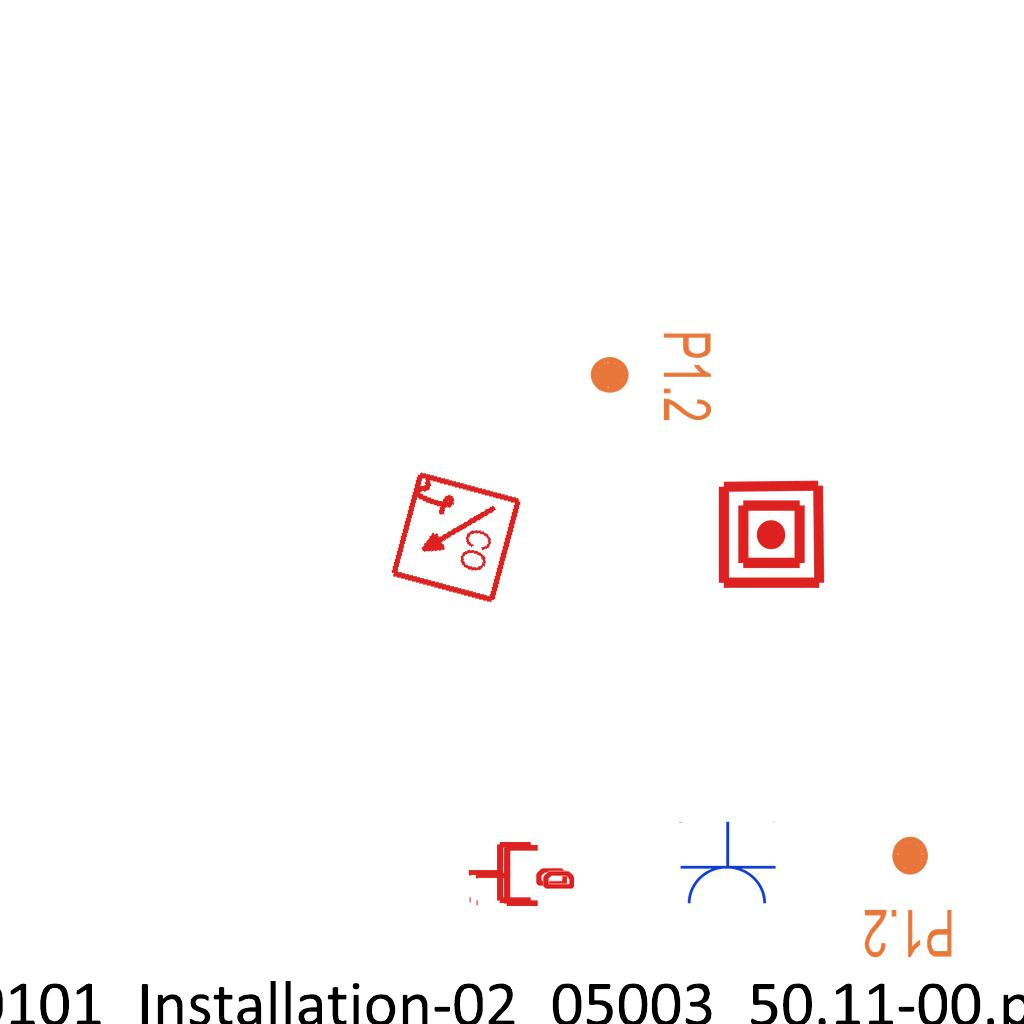Datenanschluss_einfach: (467, 838, 567, 907), (474, 841, 574, 910)
Downlight_LED_Einbauleuchten_Flur: (587, 330, 715, 423), (862, 833, 955, 961)
NAM-Nichtautomatischer_Melder: (715, 478, 828, 591)
ROA_Rauchmelder_optisch_mit_Signalgeber_(Sockelsirene): (385, 468, 524, 607)
Schukosteckdose_einfach: (677, 821, 777, 908)
